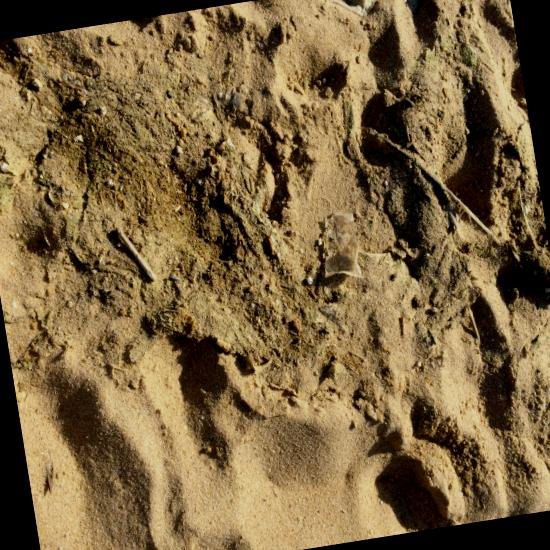Cigarette: (216, 337, 230, 352), (266, 236, 276, 255)
Plastic film: (325, 206, 363, 278), (226, 91, 243, 110)
